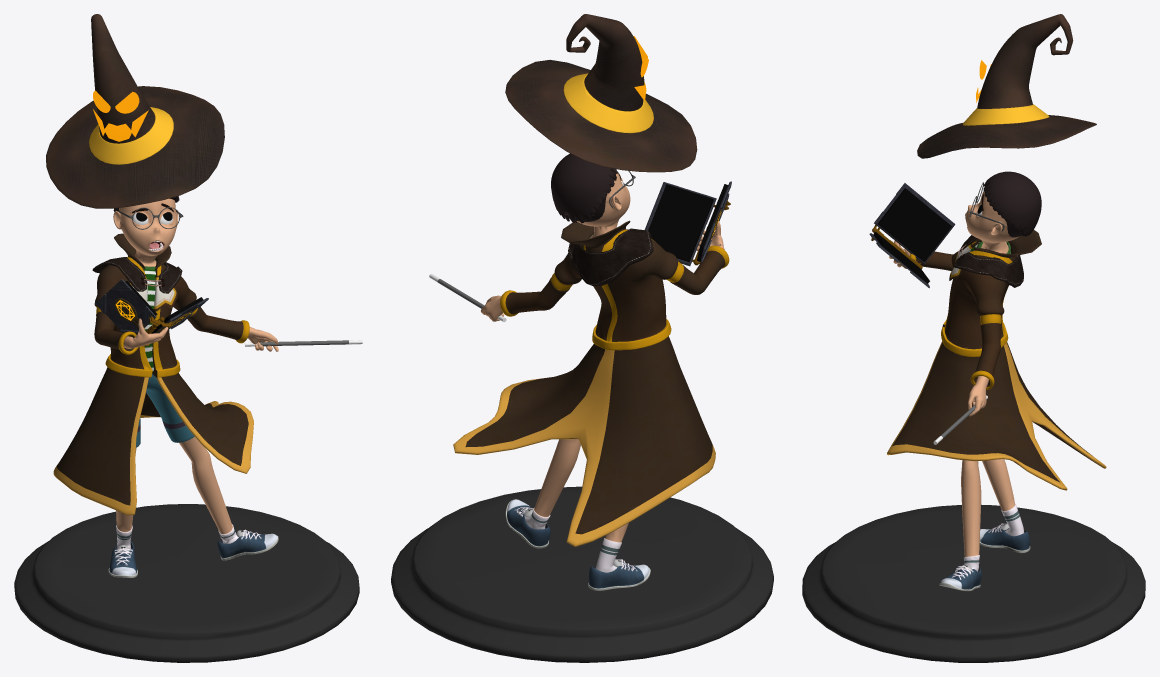
Rendered from wizard-transformed.glb.
3 renders of one model, left to right at view 1: azimuth 30°, elevation 25°; view 2: azimuth 150°, elevation 25°; view 3: azimuth 270°, elevation 25°, orthographic. The views are drawn at different scales.
Parts seen in each view (by area): view 1: WandpCylinder1_Wandq_0, Evil_Hathattty_mesh_Evil_HatBLN_Hat_0, lower_coat_mesh_FK_BLN_Lower_coat_0, Upper_coat_mesh_BLN_upper_coat_0, R_shoe_mesh_BLN_shoes_0, Evil_HatpPlane1_Evil_HatsolidShader_0, Chest_piece_mesh_BLN_chest_piece_0, pants_mesh_BLN_Pants_0, BookpolySurface2_BookBLN_Book_covers_0, BookBook_corner_mesh4_Booklam_book_corners_0, Coat_collar_mesh_BLN_collar_piece_0, upper_body_mesh_BLN_shirt_0; view 2: WandpCylinder1_Wandq_0, lower_coat_mesh_FK_BLN_Lower_coat_0, Evil_Hathattty_mesh_Evil_HatBLN_Hat_0, Upper_coat_mesh_BLN_upper_coat_0, BookpolySurface5_Bookblinn1_0, Chest_piece_mesh_BLN_chest_piece_0, R_shoe_mesh_BLN_shoes_0, Coat_collar_mesh_BLN_collar_piece_0, BookpolySurface2_BookBLN_Book_covers_0; view 3: WandpCylinder1_Wandq_0, lower_coat_mesh_FK_BLN_Lower_coat_0, Evil_Hathattty_mesh_Evil_HatBLN_Hat_0, Upper_coat_mesh_BLN_upper_coat_0, BookpolySurface5_Bookblinn1_0, R_shoe_mesh_BLN_shoes_0, Chest_piece_mesh_BLN_chest_piece_0, BookpolySurface2_BookBLN_Book_covers_0, Coat_collar_mesh_BLN_collar_piece_0.
Boxes of the visible parts, box(x1,y1,x2,y2) form: WandpCylinder1_Wandq_0: box(14, 196, 362, 662); Evil_Hathattty_mesh_Evil_HatBLN_Hat_0: box(46, 14, 224, 208); lower_coat_mesh_FK_BLN_Lower_coat_0: box(53, 367, 253, 515); Upper_coat_mesh_BLN_upper_coat_0: box(94, 257, 249, 377); R_shoe_mesh_BLN_shoes_0: box(108, 532, 278, 578); Evil_HatpPlane1_Evil_HatsolidShader_0: box(93, 90, 148, 141); Chest_piece_mesh_BLN_chest_piece_0: box(92, 257, 182, 293); pants_mesh_BLN_Pants_0: box(136, 374, 194, 447); BookpolySurface2_BookBLN_Book_covers_0: box(106, 280, 207, 333); BookBook_corner_mesh4_Booklam_book_corners_0: box(95, 279, 208, 334); Coat_collar_mesh_BLN_collar_piece_0: box(114, 233, 171, 270); upper_body_mesh_BLN_shirt_0: box(144, 269, 155, 373); WandpCylinder1_Wandq_0: box(391, 153, 773, 662); lower_coat_mesh_FK_BLN_Lower_coat_0: box(453, 336, 715, 546); Evil_Hathattty_mesh_Evil_HatBLN_Hat_0: box(505, 14, 697, 172); Upper_coat_mesh_BLN_upper_coat_0: box(500, 229, 729, 350); BookpolySurface5_Bookblinn1_0: box(648, 184, 728, 262); Chest_piece_mesh_BLN_chest_piece_0: box(568, 228, 653, 286); R_shoe_mesh_BLN_shoes_0: box(505, 499, 650, 590); Coat_collar_mesh_BLN_collar_piece_0: box(561, 220, 630, 247); BookpolySurface2_BookBLN_Book_covers_0: box(644, 181, 730, 265); WandpCylinder1_Wandq_0: box(802, 171, 1145, 662); lower_coat_mesh_FK_BLN_Lower_coat_0: box(887, 341, 1106, 490); Evil_Hathattty_mesh_Evil_HatBLN_Hat_0: box(917, 14, 1096, 158); Upper_coat_mesh_BLN_upper_coat_0: box(910, 239, 1017, 389); BookpolySurface5_Bookblinn1_0: box(873, 188, 951, 283); R_shoe_mesh_BLN_shoes_0: box(939, 528, 1030, 591); Chest_piece_mesh_BLN_chest_piece_0: box(954, 235, 1023, 287); BookpolySurface2_BookBLN_Book_covers_0: box(870, 183, 955, 286); Coat_collar_mesh_BLN_collar_piece_0: box(974, 230, 1041, 257).
Size of the model in its own units: 42.53 by 73.92 by 41.48.
20 materials, 16 textured.
